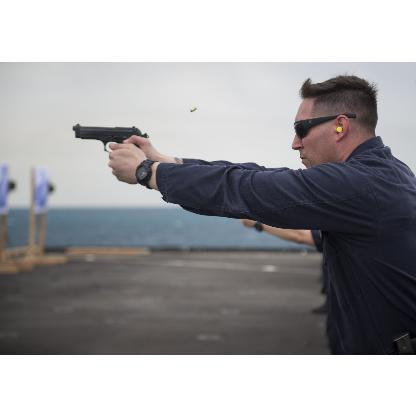gun: (70, 120, 152, 184)
